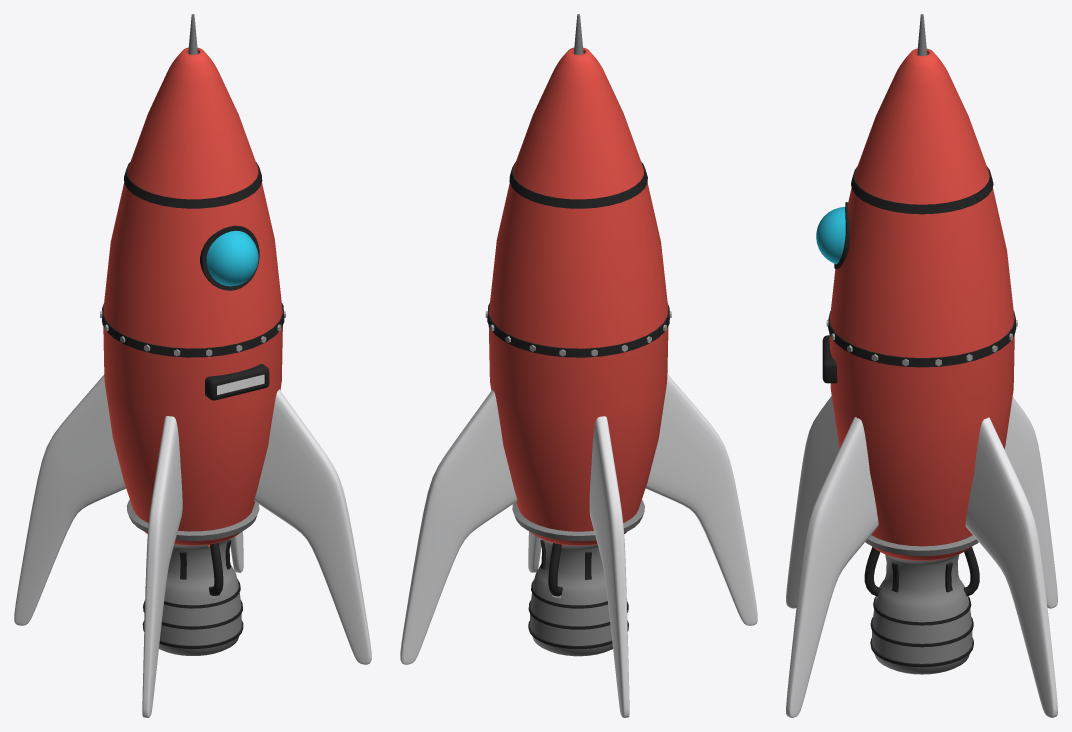
The model's file is rocket.fbx.
3 renders of one model, left to right at view 1: azimuth 30°, elevation 25°; view 2: azimuth 150°, elevation 25°; view 3: azimuth 270°, elevation 25°, orthographic. The views are drawn at different scales.
Parts seen in each view (by area): view 1: Cylinder, Cylinder.001, Cylinder.005, Cylinder.007; view 2: Cylinder, Cylinder.001; view 3: Cylinder, Cylinder.001, Cylinder.005, Cylinder.002, Cylinder.007.
Boxes of the visible parts, bbox=[...] form: Cylinder: bbox=[102, 47, 284, 655]; Cylinder.001: bbox=[14, 374, 371, 717]; Cylinder.005: bbox=[200, 225, 259, 290]; Cylinder.007: bbox=[205, 364, 269, 400]; Cylinder: bbox=[487, 47, 669, 656]; Cylinder.001: bbox=[400, 374, 757, 717]; Cylinder: bbox=[828, 48, 1016, 674]; Cylinder.001: bbox=[786, 396, 1057, 717]; Cylinder.005: bbox=[816, 202, 849, 269]; Cylinder.002: bbox=[864, 547, 979, 596]; Cylinder.007: bbox=[822, 335, 837, 383].
Bounding box in the file's own units: 355 × 932 × 355.
